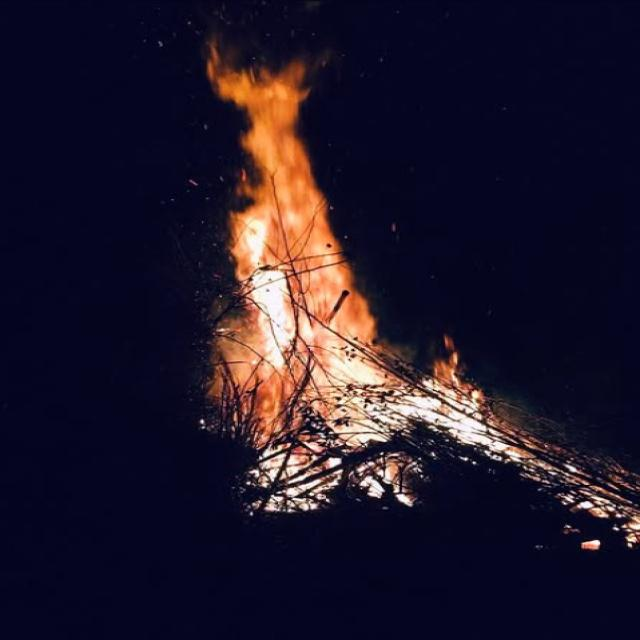fire: (204, 306, 523, 514), (209, 30, 354, 306), (523, 431, 640, 549)
